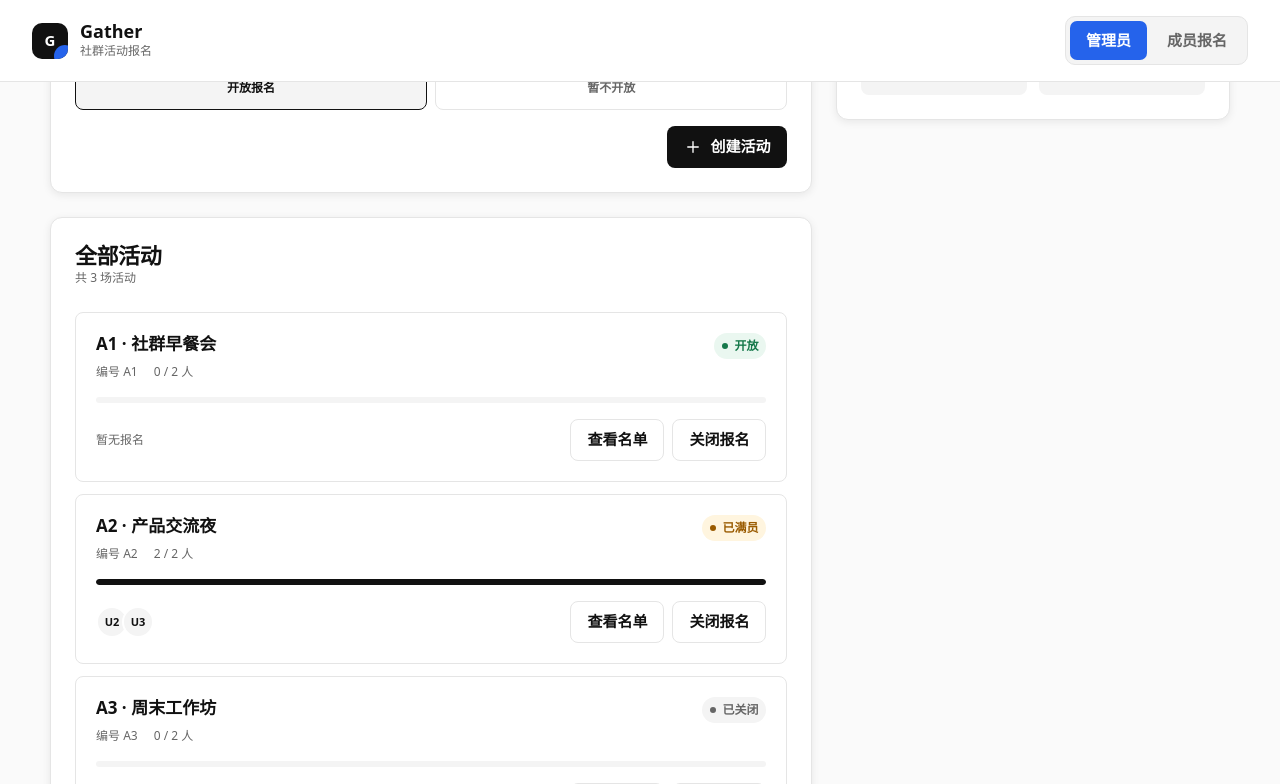
Test case: 管理员关键交互 › 名单弹窗分别呈现空名单与非空名单
(page scrolled)
Click the 1st button "查看名单".
click(617, 440)  # box top-left (570, 420), bottom-right (664, 461)
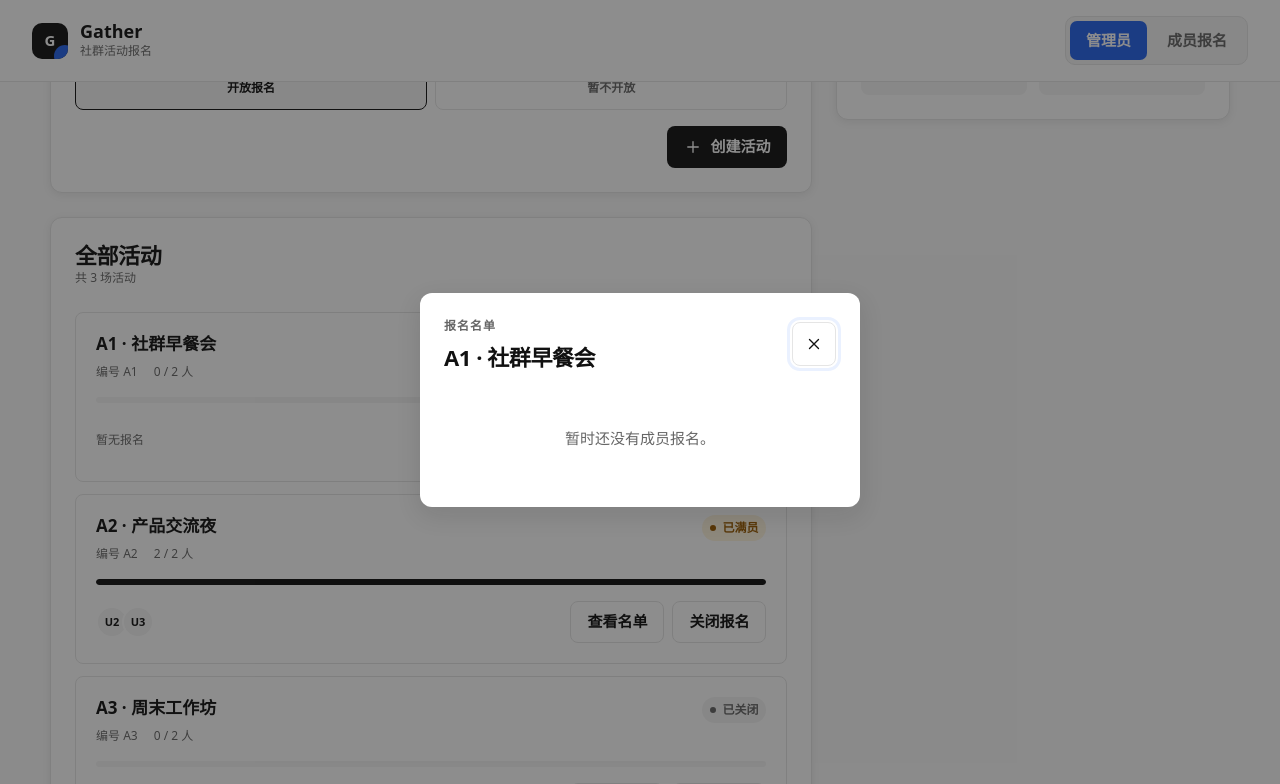
expect the dialog shows "暂时还没有成员报名。": met, box top-left (565, 428), bottom-right (715, 448)
Click the button named "关闭名单".
click(814, 344)  # box top-left (792, 322), bottom-right (836, 366)
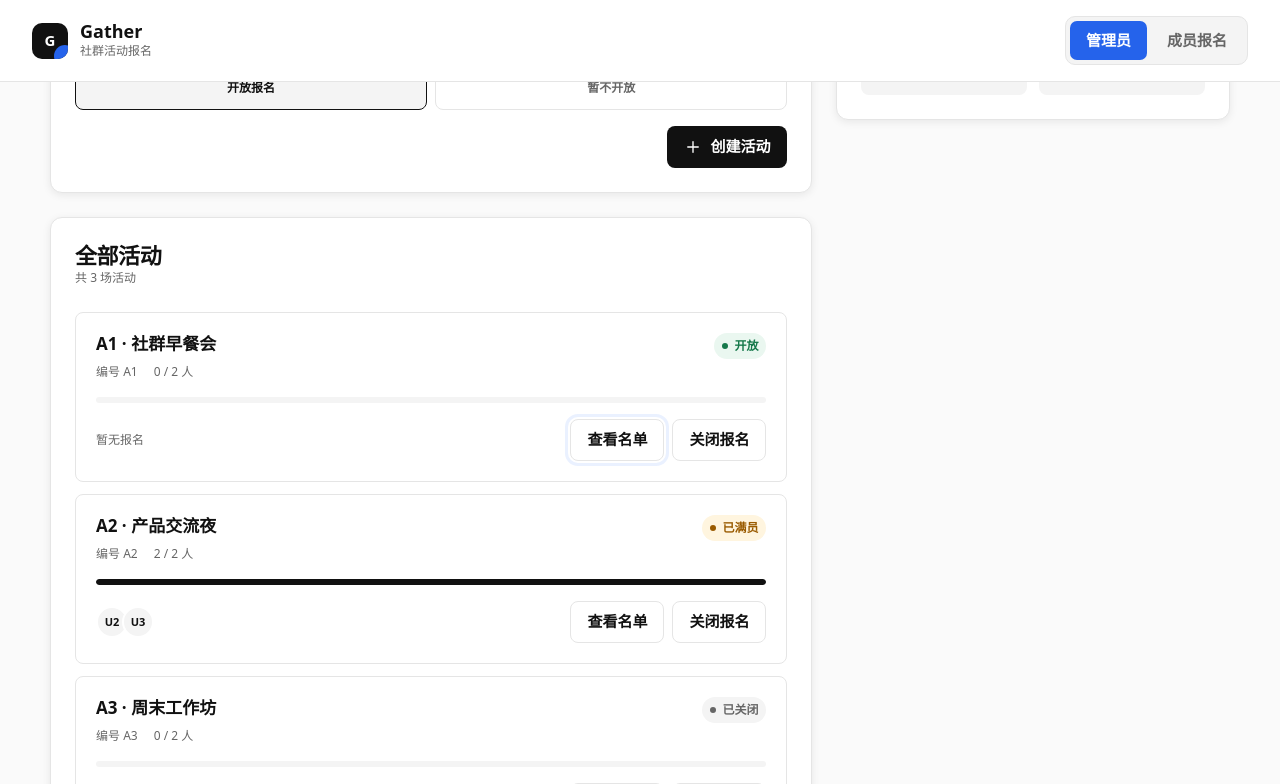
Click the button "查看名单" in the row of "U3".
click(617, 622)  # box top-left (570, 601), bottom-right (664, 643)
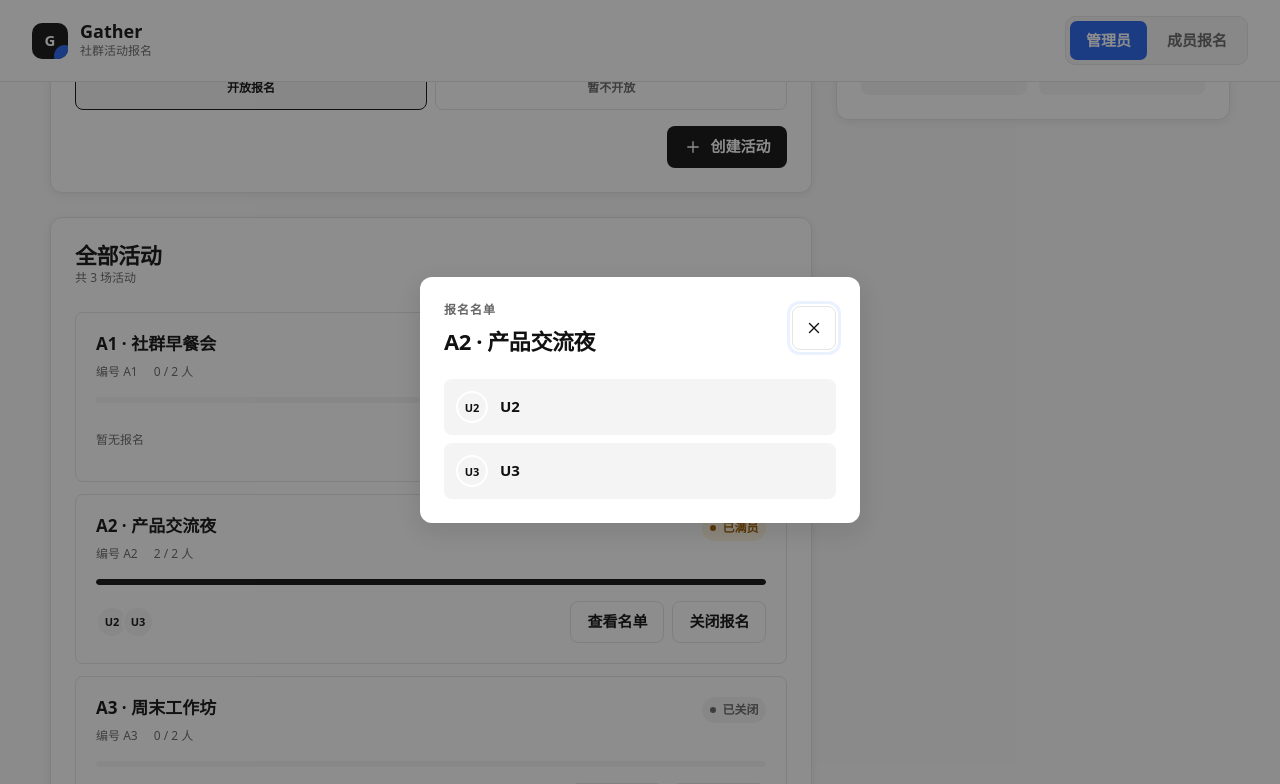
expect the text "U2" is shown 2 times: met, box top-left (456, 391), bottom-right (488, 423); top-left (500, 395), bottom-right (520, 419)
expect the text "U3" is shown 2 times: met, box top-left (456, 455), bottom-right (488, 487); top-left (500, 459), bottom-right (520, 483)
